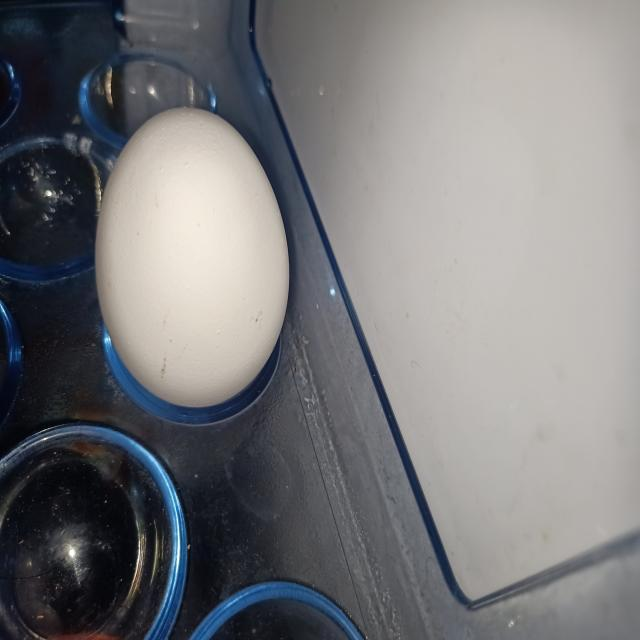Egg: (87, 84, 299, 422)
